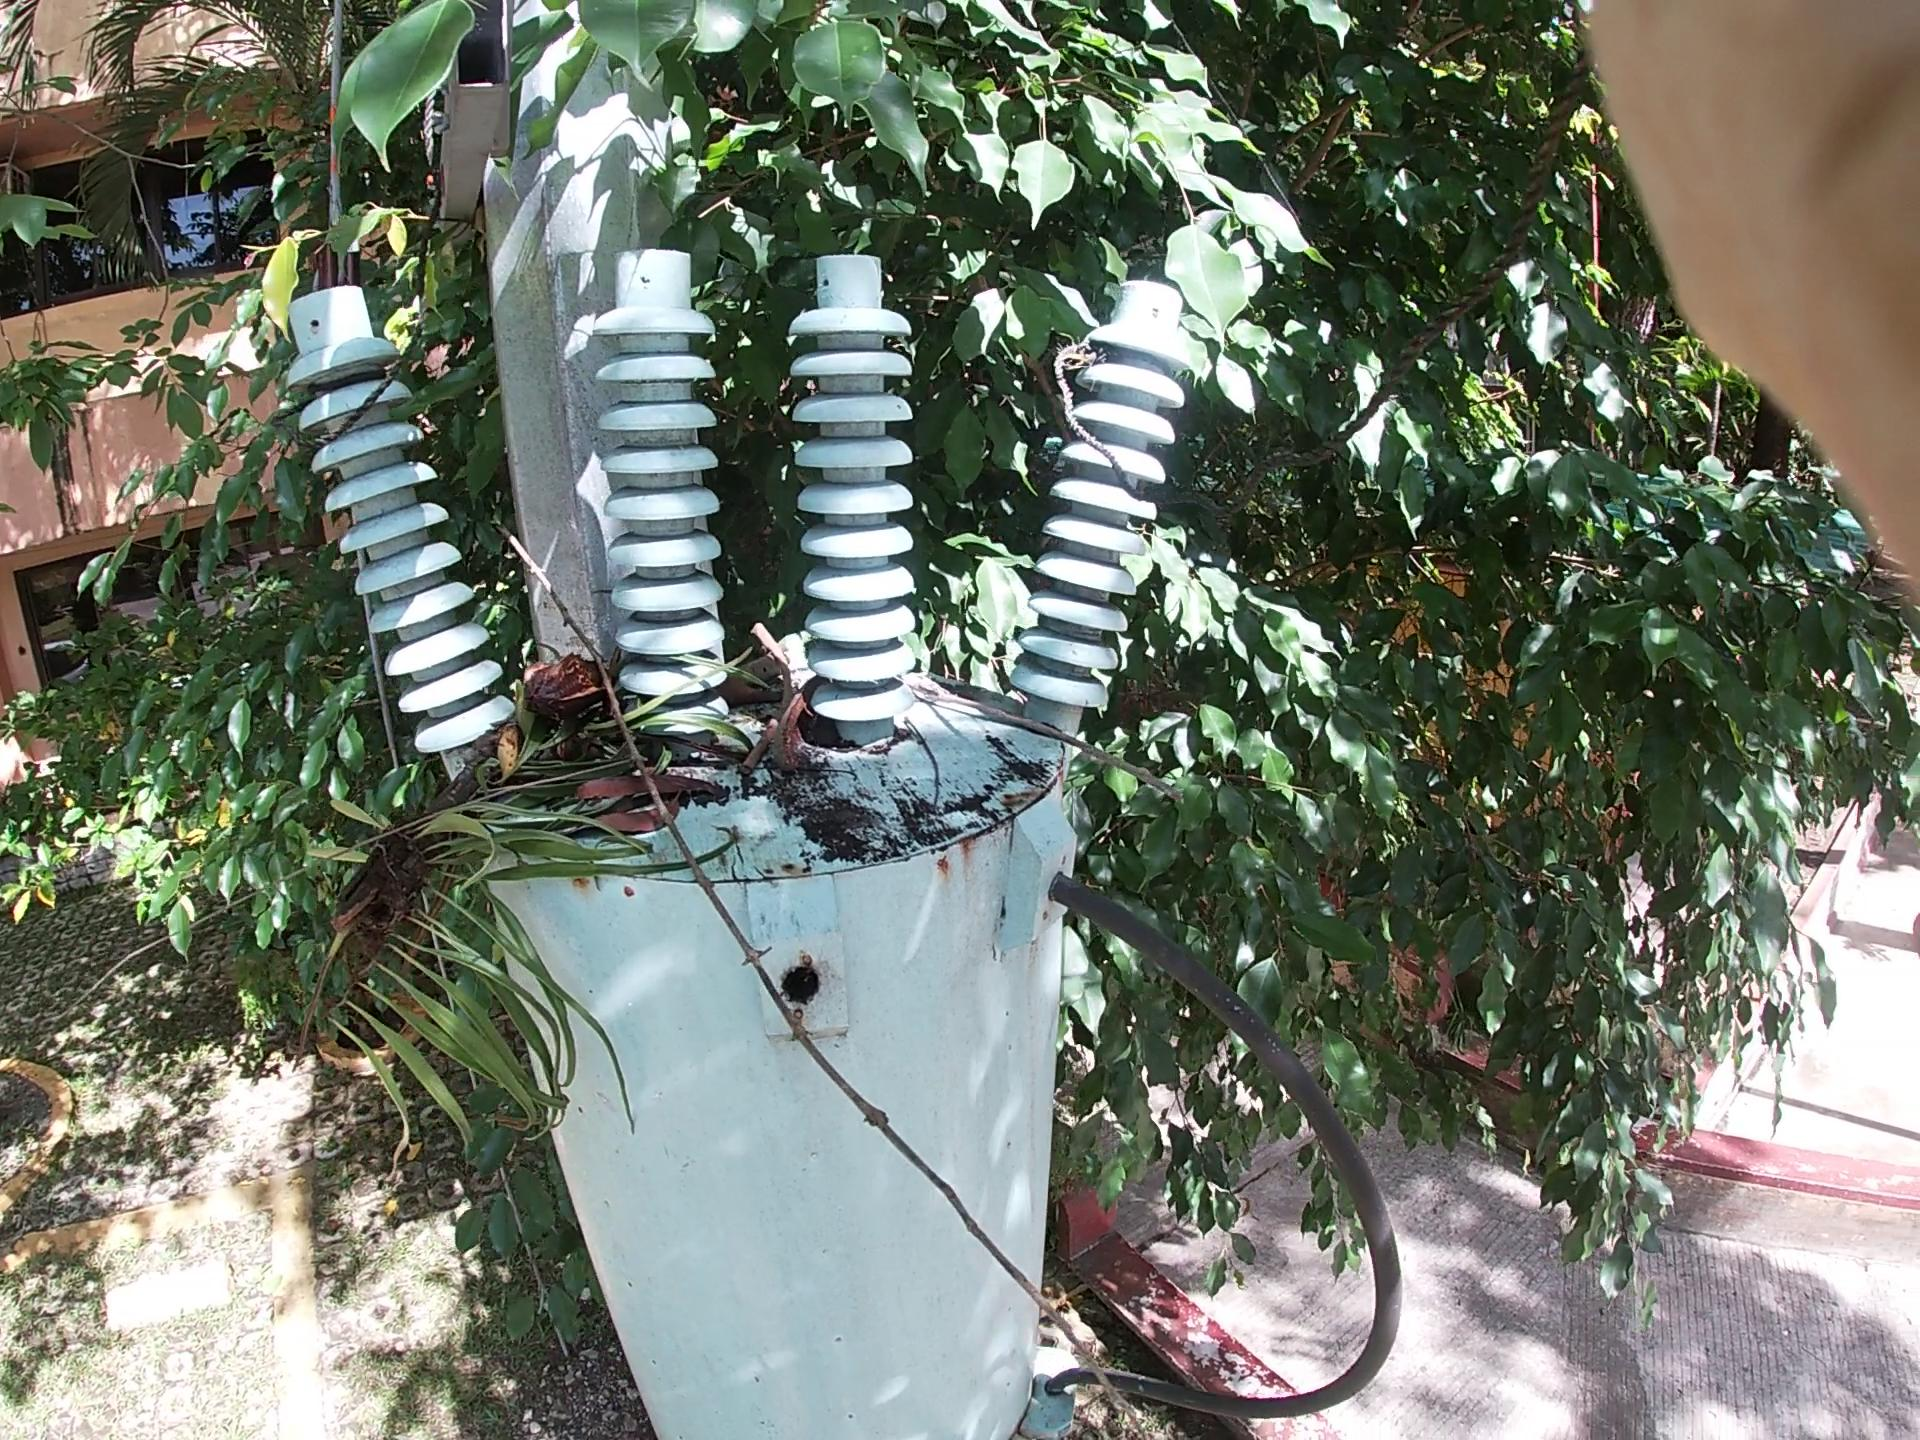branch with leaves: (252, 404, 900, 1147)
leaf: (454, 2, 1173, 511)
mahogany fruit: (750, 635, 862, 781), (519, 631, 641, 756)
tree branch: (434, 475, 1017, 1280), (928, 678, 1241, 839), (698, 646, 801, 839)
